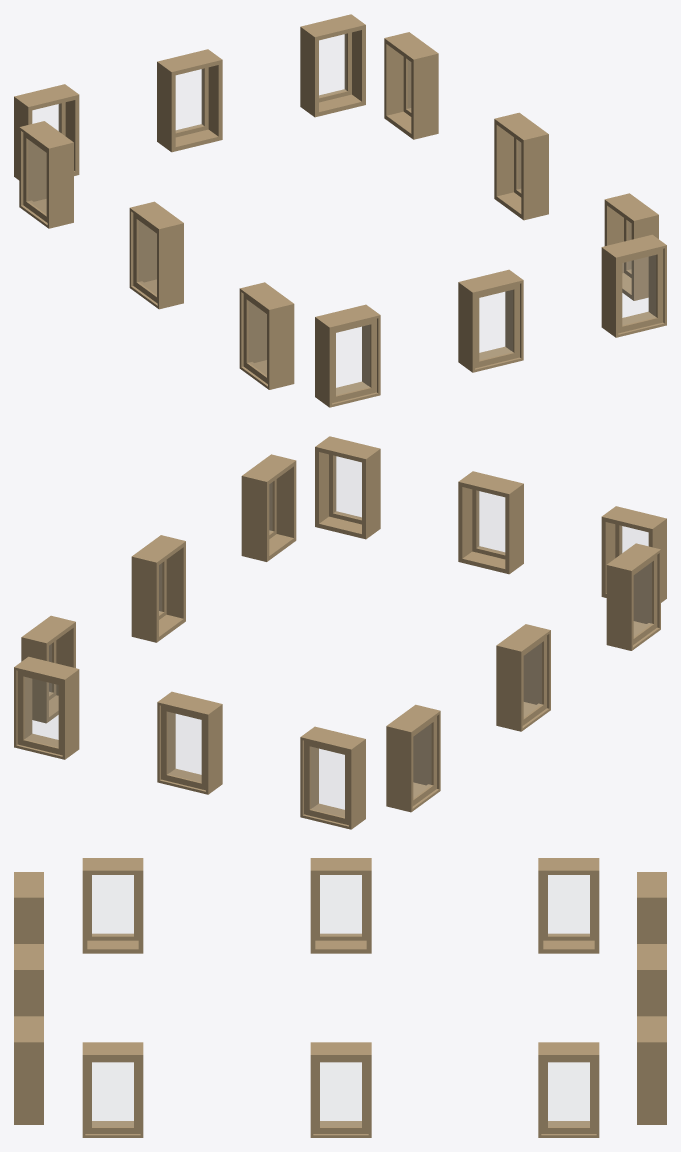
3 renders of one model, top to bottom at view 1: azimuth 30°, elevation 25°; view 2: azimuth 150°, elevation 25°; view 3: azimuth 270°, elevation 25°, orthographic. The views are drawn at different scales.
Size of the model in its own units: 3.1 by 0.6102 by 4.35.
